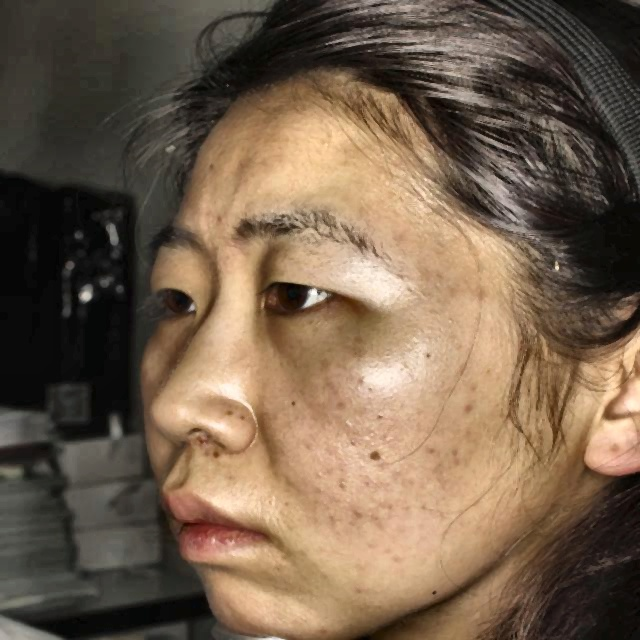comedone: (195, 435, 230, 462)
